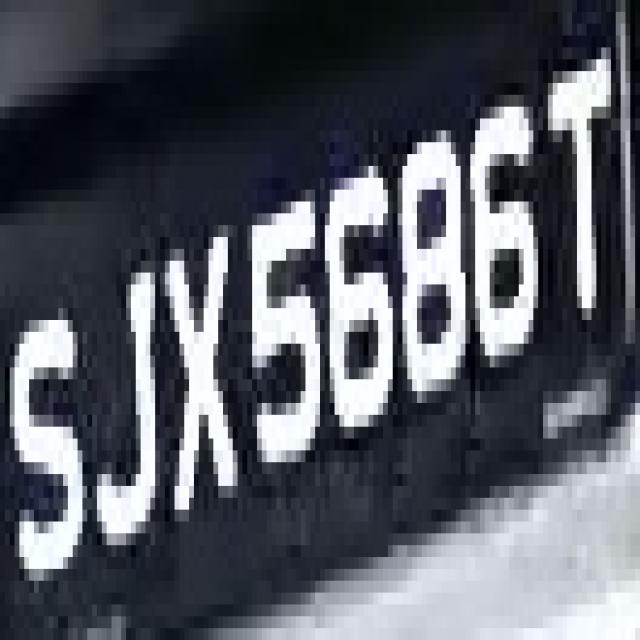5: (233, 154, 325, 510)
6: (310, 154, 402, 450), (466, 59, 534, 391)
8: (393, 95, 475, 438)
J: (82, 213, 165, 569)
S: (10, 284, 87, 581)
T: (528, 59, 616, 380)
X: (160, 178, 247, 545)
